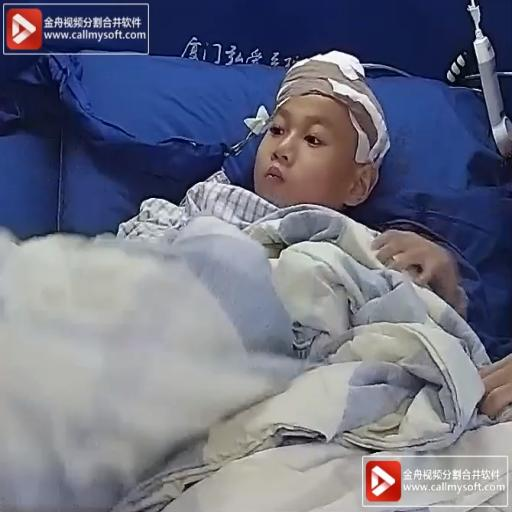Seizure: (236, 39, 372, 225)
